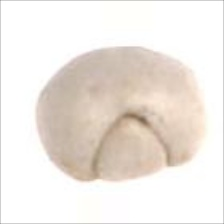L5: (90, 111, 173, 181)
L6: (33, 44, 206, 184)
